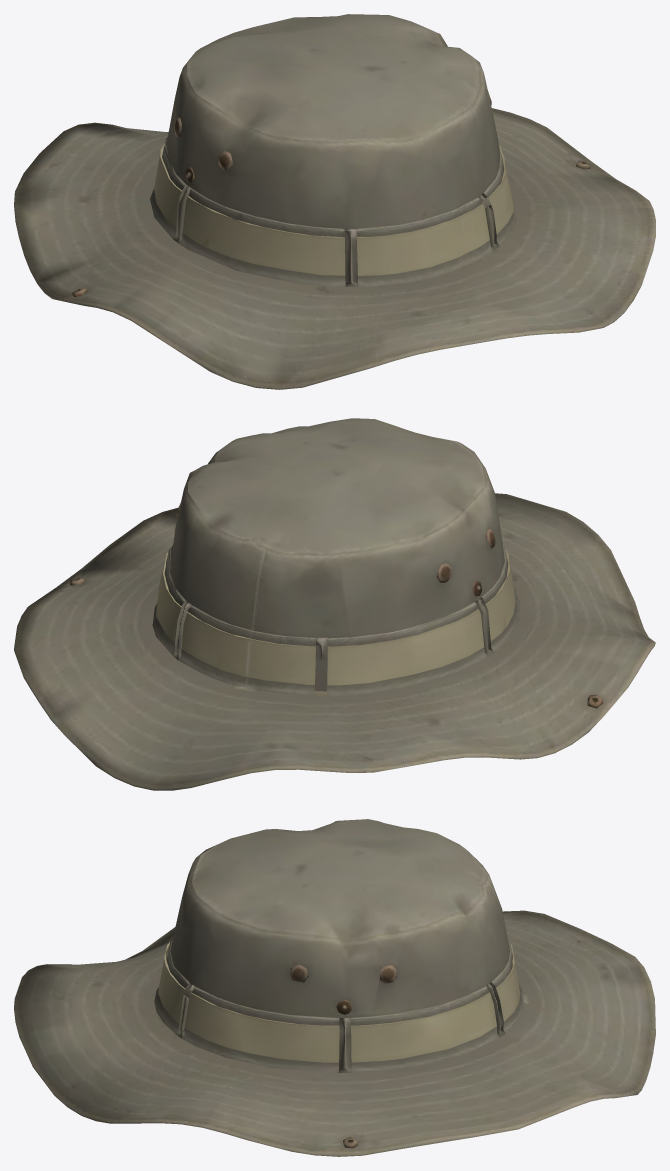
The model's file is fishermans_hat.glb.
3 renders of one model, top to bottom at view 1: azimuth 30°, elevation 25°; view 2: azimuth 150°, elevation 25°; view 3: azimuth 270°, elevation 25°, orthographic. The views are drawn at different scales.
Parts seen in each view (by area): view 1: fishermans_hat; view 2: fishermans_hat; view 3: fishermans_hat.
Part boxes in pixels (x1,y1,x2,y2): fishermans_hat: [14, 14, 655, 389]; fishermans_hat: [14, 418, 655, 790]; fishermans_hat: [14, 819, 655, 1156].
Bounding box in the file's own units: 0.3234 × 0.1239 × 0.3497.
Materials: 1 (1 with a texture image).
